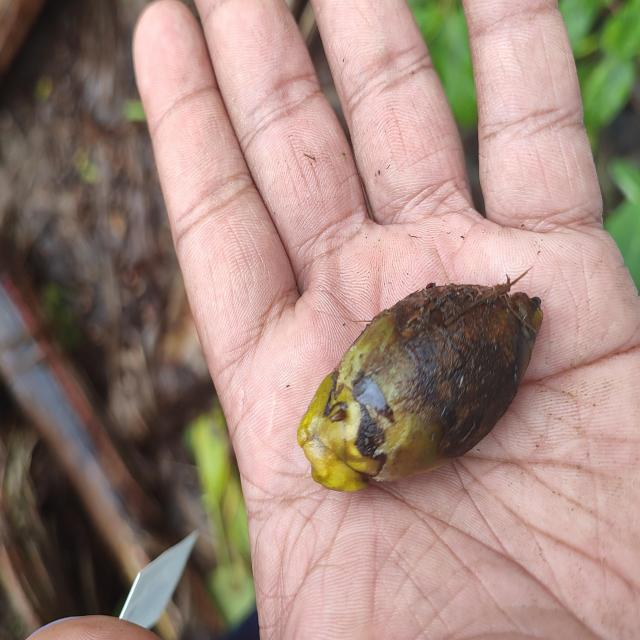damaged: (297, 280, 543, 491)
